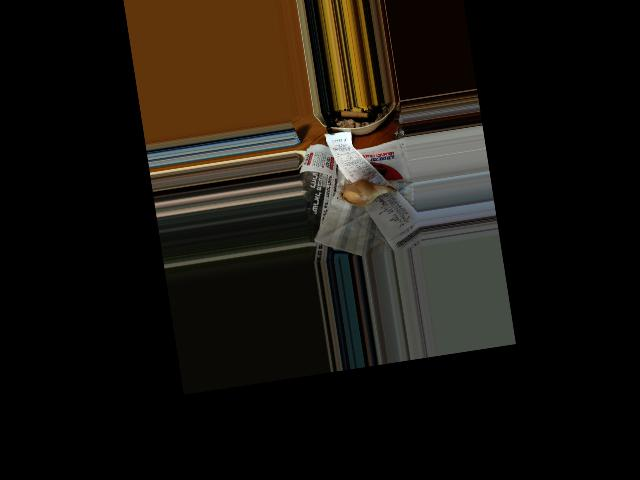onion: (340, 179, 378, 205)
